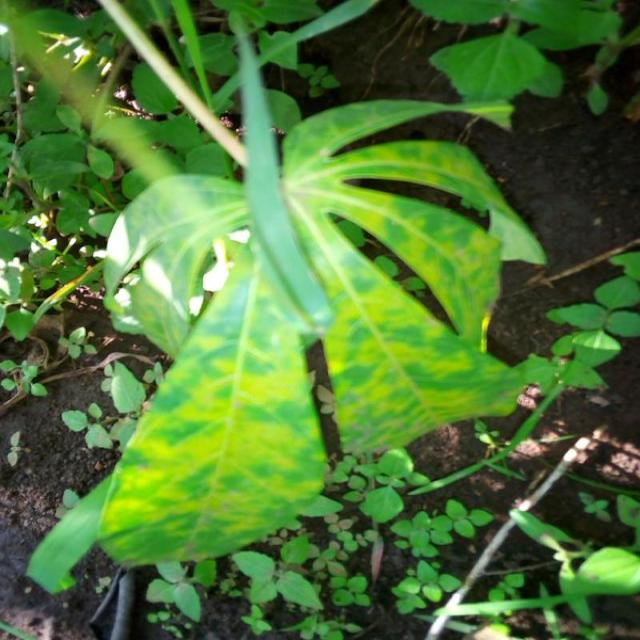cassava leaf: (26, 27, 563, 594), (96, 234, 331, 568)
